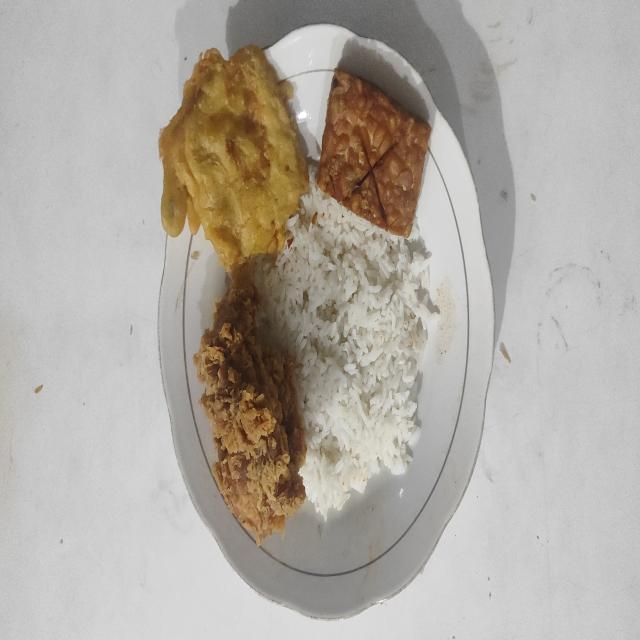nasi_putih: (254, 165, 436, 521)
tempe_goreng: (317, 70, 431, 238)
